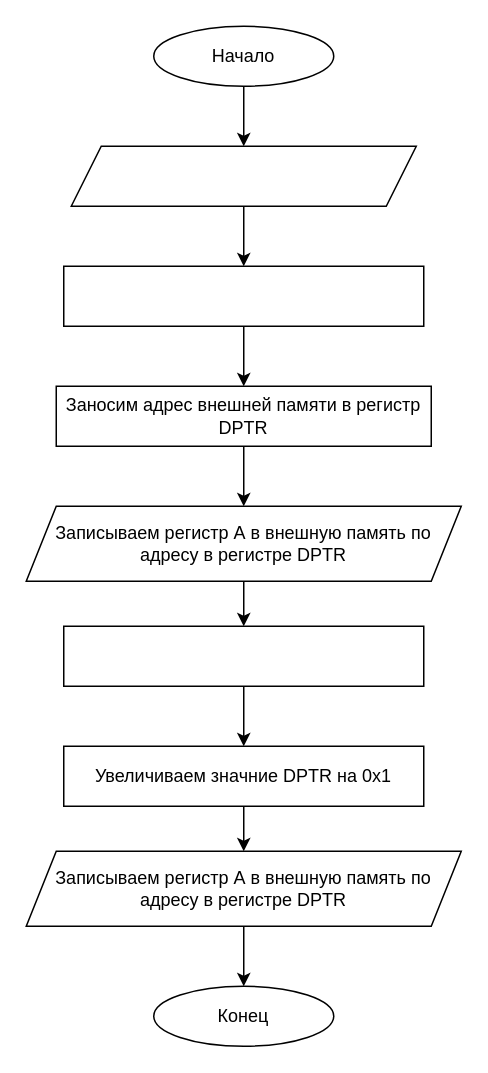
Image size: 488x1073. Some labels were removed from this diagram. The shapes that lost their labels are listed below. From the top down, each one's centre as x and y in pixels, then its label:
At (x=243, y=175): "Записываем число из внутренней памяти в регистр А".
At (x=243, y=295): "Прибавляем к регистру А число 0х5".
At (x=243, y=655): "Заносим в регистра А результат переноса".
